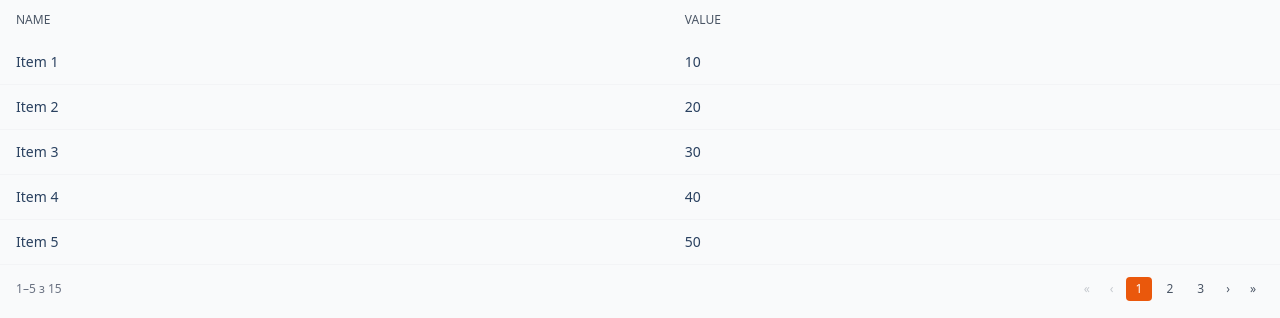
Scenario: DataTable › disables next button on last page
The image size is (1280, 318).
Go to last page
Click the button named "Остання сторінка": click(1253, 289) top-left (1242, 277), bottom-right (1264, 301)
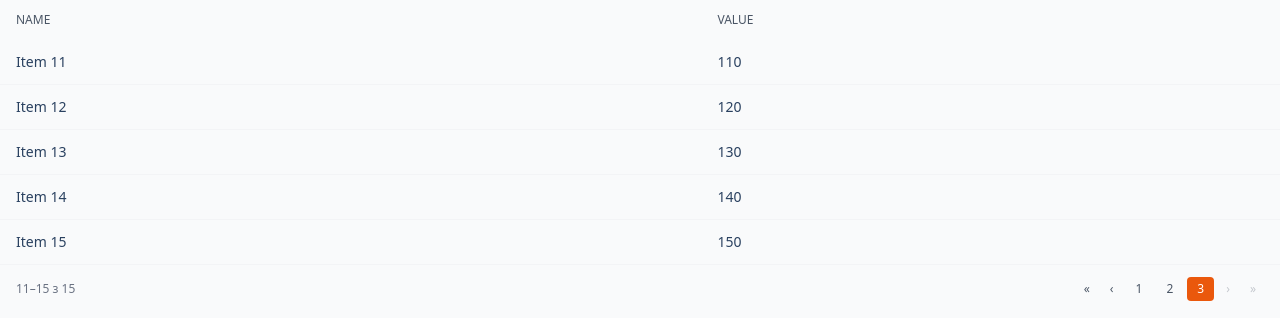
Expected: the button named "Наступна сторінка" is disabled, top-left (1218, 277), bottom-right (1238, 301)
Expected: the button named "Остання сторінка" is disabled, top-left (1242, 277), bottom-right (1264, 301)
